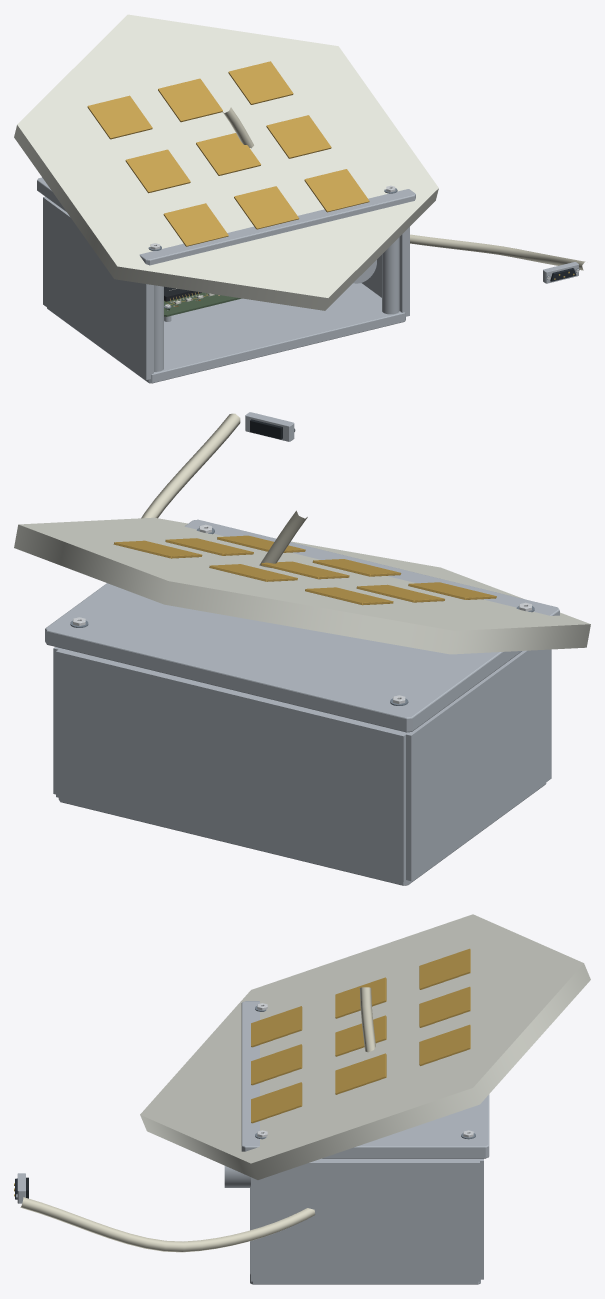
File: mer-antenna.glb
The picture shows the model from 3 angles, top to bottom: view 1: azimuth 30°, elevation 25°; view 2: azimuth 150°, elevation 25°; view 3: azimuth 270°, elevation 25°; orthographic projection. The views are drawn at different scales.
Visible parts, largest first — view 1: REFLECTOR_White_thermal_coating, RADIO_CHASSIS_Machined_aluminium, REFLECTOR_Multilayer_thermal_foil, RADIO_CHASSIS_COVER_Machined_aluminium, mer_RADIO_White_cable_sleeve, RF_BOARD_Epoxy_circuit_substrate; view 2: RADIO_CHASSIS_Machined_aluminium, RADIO_CHASSIS_COVER_Machined_aluminium, REFLECTOR_White_thermal_coating, REFLECTOR_Multilayer_thermal_foil, mer_RADIO_White_cable_sleeve, mer_RADIO_Machined_aluminium; view 3: REFLECTOR_White_thermal_coating, RADIO_CHASSIS_Machined_aluminium, REFLECTOR_Multilayer_thermal_foil, RADIO_CHASSIS_COVER_Machined_aluminium, mer_RADIO_White_cable_sleeve.
Part boxes in pixels (left/top/right/bottom): REFLECTOR_White_thermal_coating: left=14, top=14, right=438, bottom=310; RADIO_CHASSIS_Machined_aluminium: left=43, top=196, right=409, bottom=383; REFLECTOR_Multilayer_thermal_foil: left=87, top=61, right=369, bottom=246; RADIO_CHASSIS_COVER_Machined_aluminium: left=37, top=177, right=415, bottom=265; mer_RADIO_White_cable_sleeve: left=222, top=107, right=585, bottom=270; RF_BOARD_Epoxy_circuit_substrate: left=164, top=292, right=241, bottom=316; RADIO_CHASSIS_Machined_aluminium: left=53, top=647, right=551, bottom=885; RADIO_CHASSIS_COVER_Machined_aluminium: left=45, top=519, right=559, bottom=732; REFLECTOR_White_thermal_coating: left=14, top=517, right=590, bottom=654; REFLECTOR_Multilayer_thermal_foil: left=113, top=535, right=496, bottom=605; mer_RADIO_White_cable_sleeve: left=141, top=413, right=307, bottom=567; mer_RADIO_Machined_aluminium: left=245, top=412, right=294, bottom=441; REFLECTOR_White_thermal_coating: left=140, top=914, right=590, bottom=1179; RADIO_CHASSIS_Machined_aluminium: left=250, top=1158, right=483, bottom=1284; REFLECTOR_Multilayer_thermal_foil: left=251, top=948, right=470, bottom=1123; RADIO_CHASSIS_COVER_Machined_aluminium: left=241, top=1001, right=489, bottom=1158; mer_RADIO_White_cable_sleeve: left=20, top=987, right=375, bottom=1252.
Size of the model in its own units: 0.2945 by 0.1702 by 0.3527.
